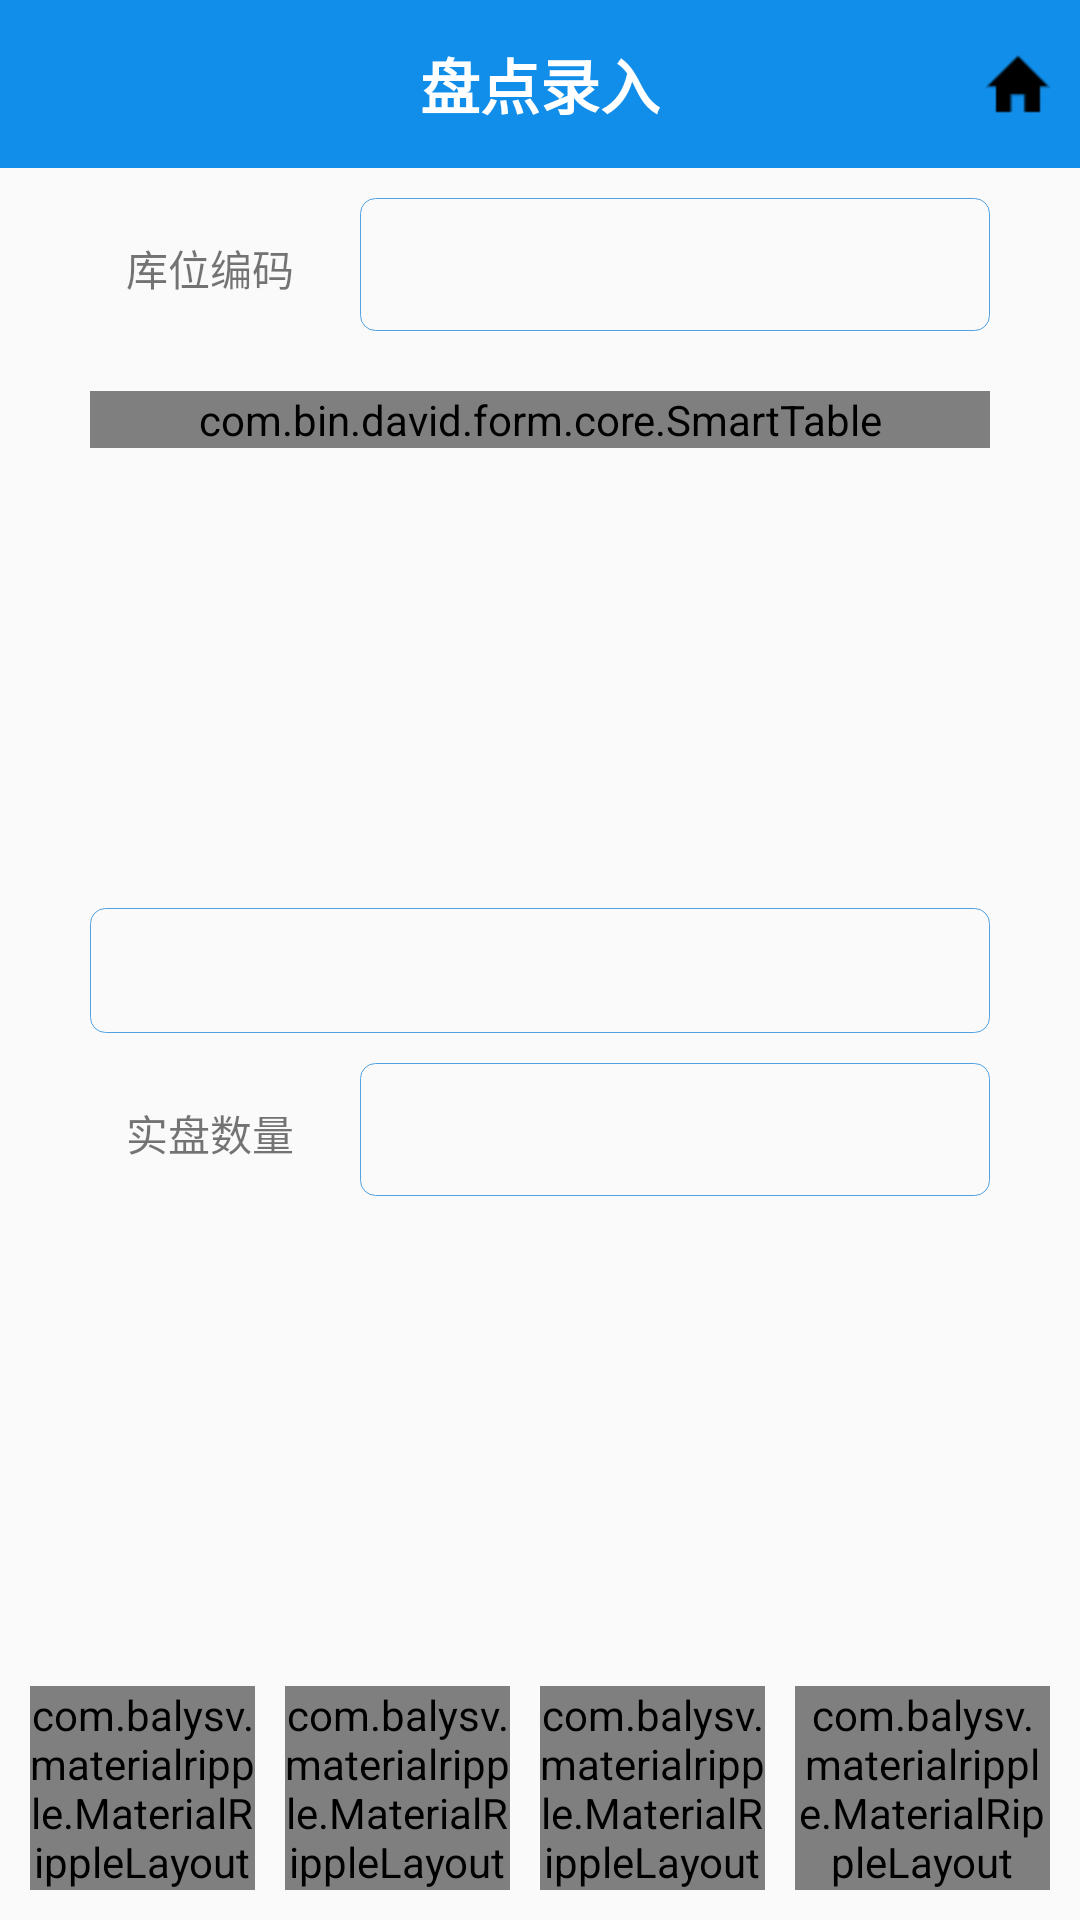

Named icons in this screenshot (1080 × 1920) and their centers, (x,y):
home: (1018,84)
